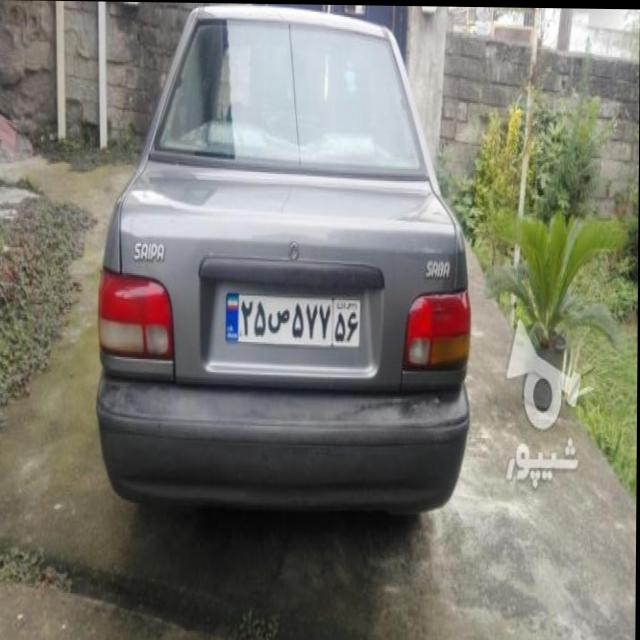licence: (226, 287, 364, 339)
